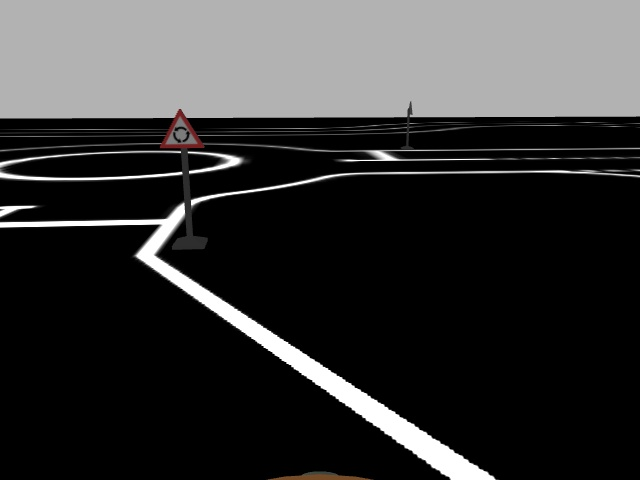roundabout: (159, 107, 204, 147)
